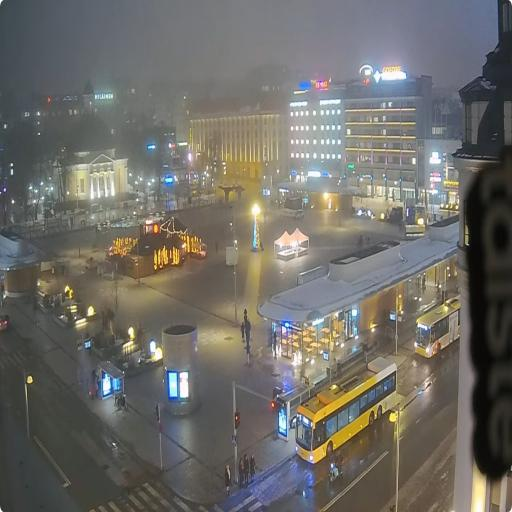Bus: (296, 357, 396, 462), (414, 297, 460, 357)
